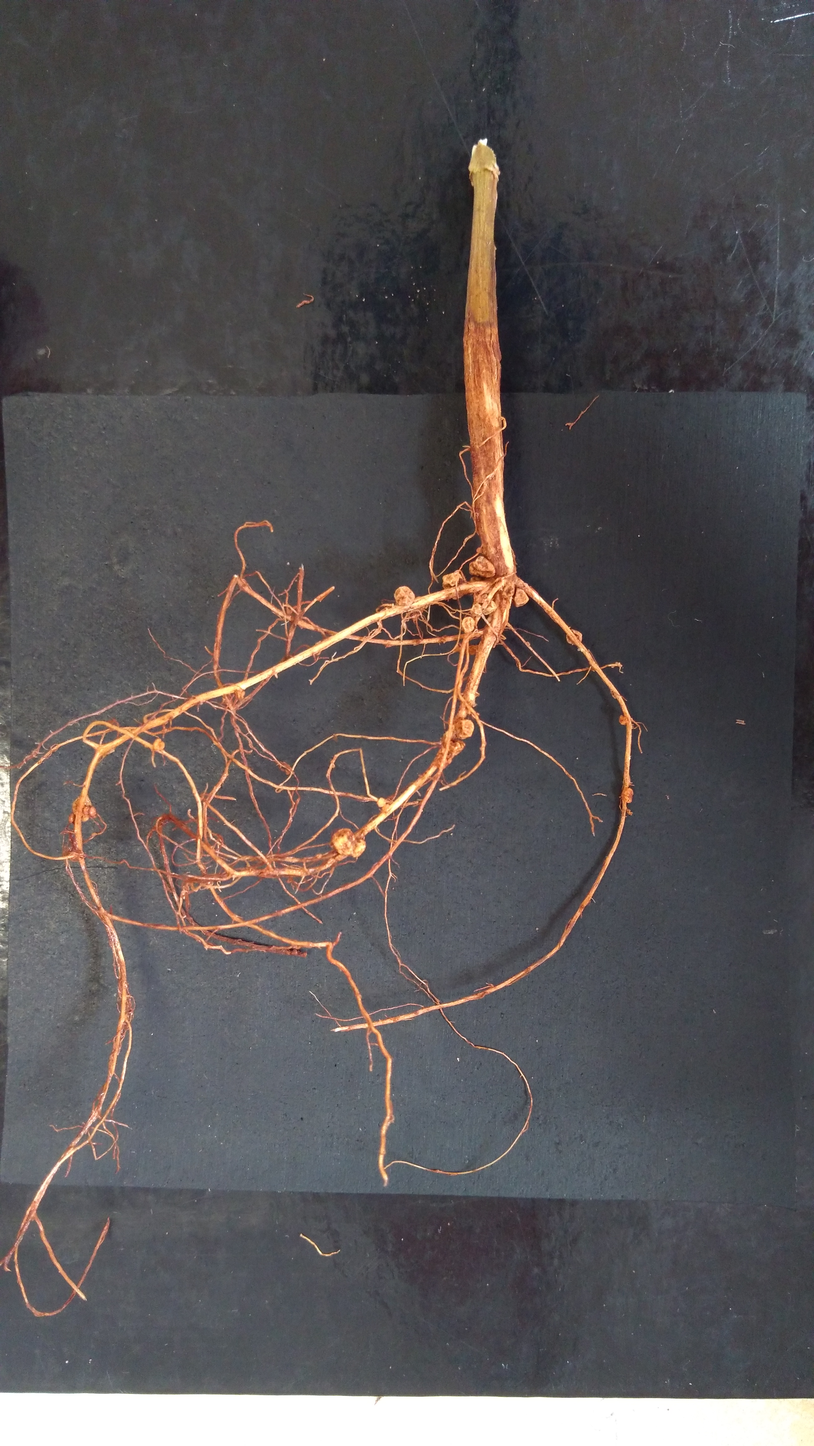nodule: (331, 829, 365, 857), (441, 737, 465, 769), (442, 572, 465, 600), (469, 556, 495, 577), (72, 795, 91, 822), (470, 576, 488, 603), (394, 586, 415, 606), (456, 720, 474, 739), (513, 588, 529, 607), (566, 629, 582, 644), (414, 597, 428, 614), (482, 600, 497, 615), (277, 761, 293, 775), (462, 617, 474, 633), (621, 788, 633, 803), (107, 719, 119, 731), (471, 603, 482, 616), (458, 707, 471, 718), (154, 739, 164, 750), (619, 715, 628, 725), (377, 797, 386, 807), (381, 804, 391, 811), (83, 805, 90, 815), (69, 813, 75, 823), (90, 806, 96, 816), (316, 853, 322, 859), (91, 832, 97, 837)
